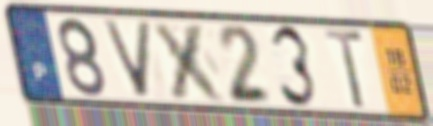2: (214, 22, 275, 105)
3: (267, 23, 321, 111)
8: (56, 15, 108, 98)
T: (322, 26, 369, 111)
V: (98, 17, 155, 100)
X: (149, 19, 231, 105)
